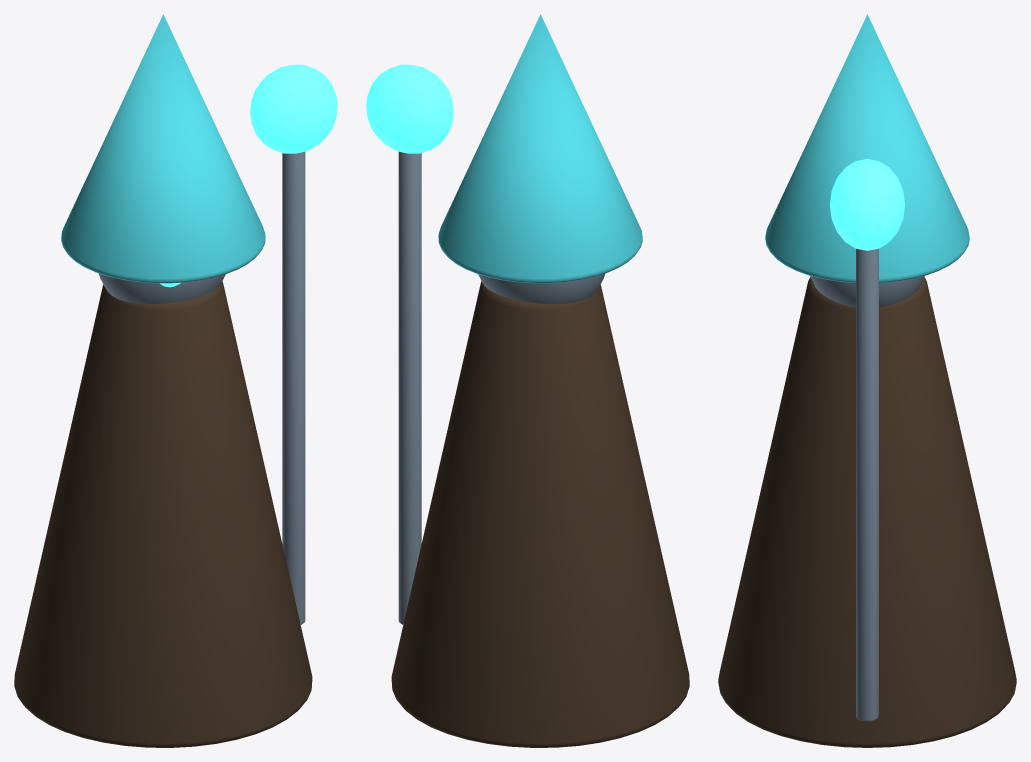
Rendered from humanoid_v3.glb.
3 renders of one model, left to right at view 1: azimuth 30°, elevation 25°; view 2: azimuth 150°, elevation 25°; view 3: azimuth 270°, elevation 25°, orthographic.
Visible parts, largest first — view 1: MAGE_ROBE_SECONDARY, MAGE_HAT_ACCENT, MAGE_STAFF_PRIMARY, STAFF_ORB_EMISSIVE, MAGE_HEAD_PRIMARY; view 2: MAGE_ROBE_SECONDARY, MAGE_HAT_ACCENT, MAGE_STAFF_PRIMARY, STAFF_ORB_EMISSIVE, MAGE_HEAD_PRIMARY; view 3: MAGE_ROBE_SECONDARY, MAGE_HAT_ACCENT, MAGE_STAFF_PRIMARY, STAFF_ORB_EMISSIVE, MAGE_HEAD_PRIMARY.
Boxes of the visible parts, x1,y1,x2,y2 form: MAGE_ROBE_SECONDARY: [14, 281, 312, 747]; MAGE_HAT_ACCENT: [61, 14, 265, 283]; MAGE_STAFF_PRIMARY: [282, 151, 305, 624]; STAFF_ORB_EMISSIVE: [250, 64, 337, 153]; MAGE_HEAD_PRIMARY: [98, 273, 225, 304]; MAGE_ROBE_SECONDARY: [391, 281, 689, 747]; MAGE_HAT_ACCENT: [438, 14, 642, 283]; MAGE_STAFF_PRIMARY: [398, 151, 421, 624]; STAFF_ORB_EMISSIVE: [366, 64, 453, 153]; MAGE_HEAD_PRIMARY: [478, 273, 605, 304]; MAGE_ROBE_SECONDARY: [718, 277, 1016, 747]; MAGE_HAT_ACCENT: [765, 14, 969, 282]; MAGE_STAFF_PRIMARY: [856, 248, 878, 721]; STAFF_ORB_EMISSIVE: [830, 159, 904, 250]; MAGE_HEAD_PRIMARY: [810, 276, 924, 307].
Size of the model in its own units: 1.65 by 3.55 by 1.43.
